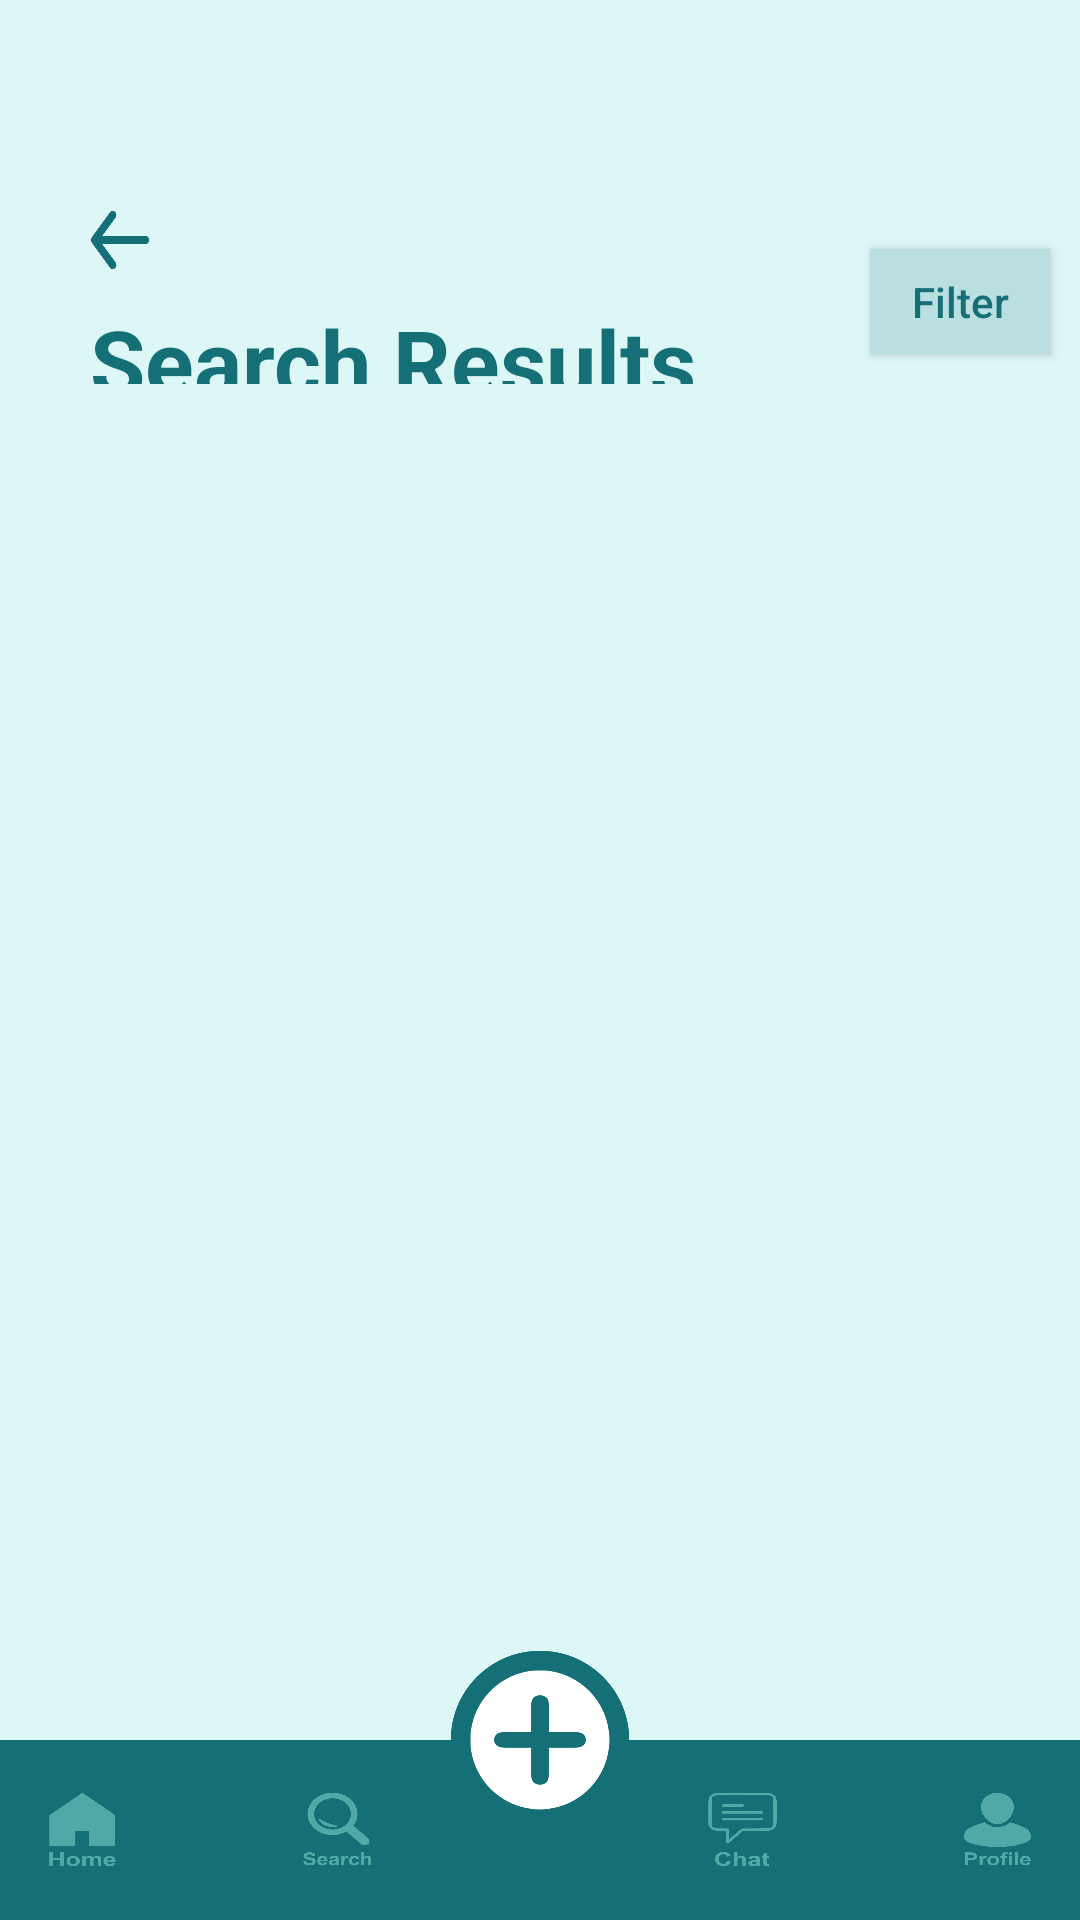

Icons on this 1080px×1920px Android screen, each with the point to tap as (x=x, y=y):
back arrow: (x=120, y=240)
plus sign: (x=540, y=1740)
